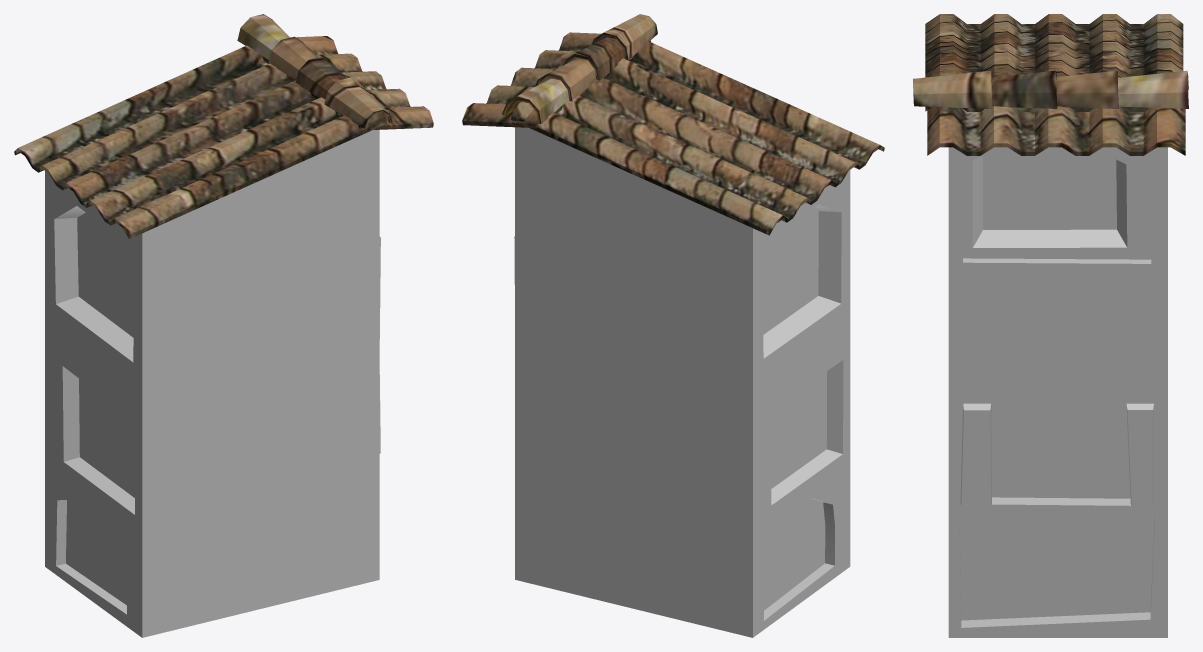
File: nicho_grande_3.fbx
3 views of the same model, side by side, from view 1: azimuth 30°, elevation 25°; view 2: azimuth 150°, elevation 25°; view 3: azimuth 270°, elevation 25° (orthographic). The views are drawn at different scales.
Visible parts, largest first — view 1: Cube.001, Cube.004, Cube.036, Cube.023, Cube.005, Cube.007, Cube.006; view 2: Cube.001, Cube.004, Cube.036, Cube.005, Cube.023, Cube.007, Cube.006; view 3: Cube.001, Cube.004, Cube.036, Cube.023, Cube.005, Cube.007, Cube.006.
Boxes of the visible parts, left/top/right/bottom form: Cube.001: left=45, top=130, right=380, bottom=637; Cube.004: left=14, top=45, right=386, bottom=238; Cube.036: left=262, top=36, right=433, bottom=129; Cube.023: left=324, top=77, right=392, bottom=128; Cube.005: left=237, top=14, right=289, bottom=59; Cube.007: left=295, top=56, right=346, bottom=99; Cube.006: left=268, top=36, right=318, bottom=79; Cube.001: left=514, top=127, right=850, bottom=637; Cube.004: left=511, top=41, right=884, bottom=235; Cube.036: left=462, top=32, right=650, bottom=127; Cube.005: left=502, top=78, right=568, bottom=123; Cube.023: left=591, top=14, right=657, bottom=60; Cube.007: left=563, top=37, right=624, bottom=80; Cube.006: left=535, top=58, right=595, bottom=101; Cube.001: left=948, top=147, right=1167, bottom=637; Cube.004: left=925, top=14, right=1183, bottom=111; Cube.036: left=927, top=106, right=1185, bottom=155; Cube.023: left=913, top=70, right=992, bottom=108; Cube.005: left=1118, top=70, right=1188, bottom=108; Cube.007: left=991, top=70, right=1057, bottom=108; Cube.006: left=1056, top=70, right=1118, bottom=108.
Bounding box in the file's own units: 368 × 558 × 252.
